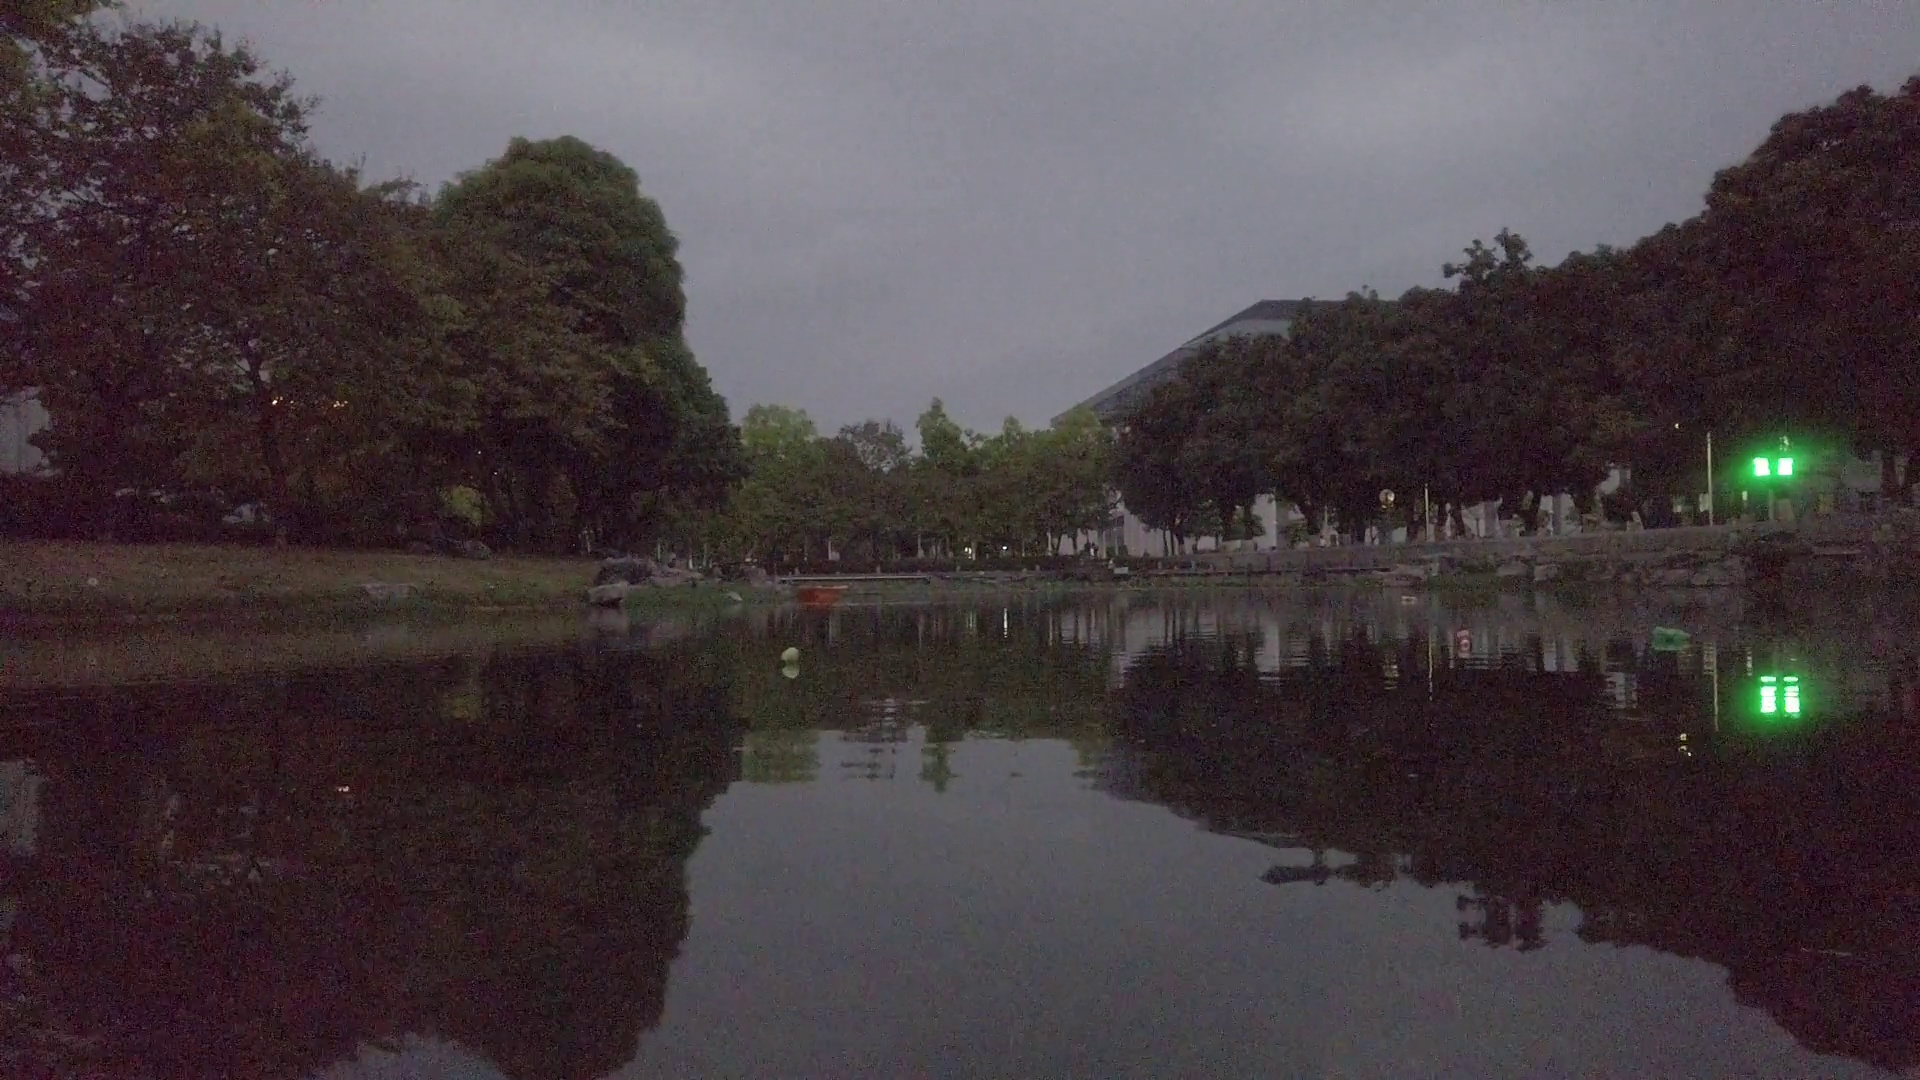bottle: (1650, 624, 1692, 642), (781, 644, 798, 670), (1456, 629, 1474, 651), (1400, 592, 1416, 605)
